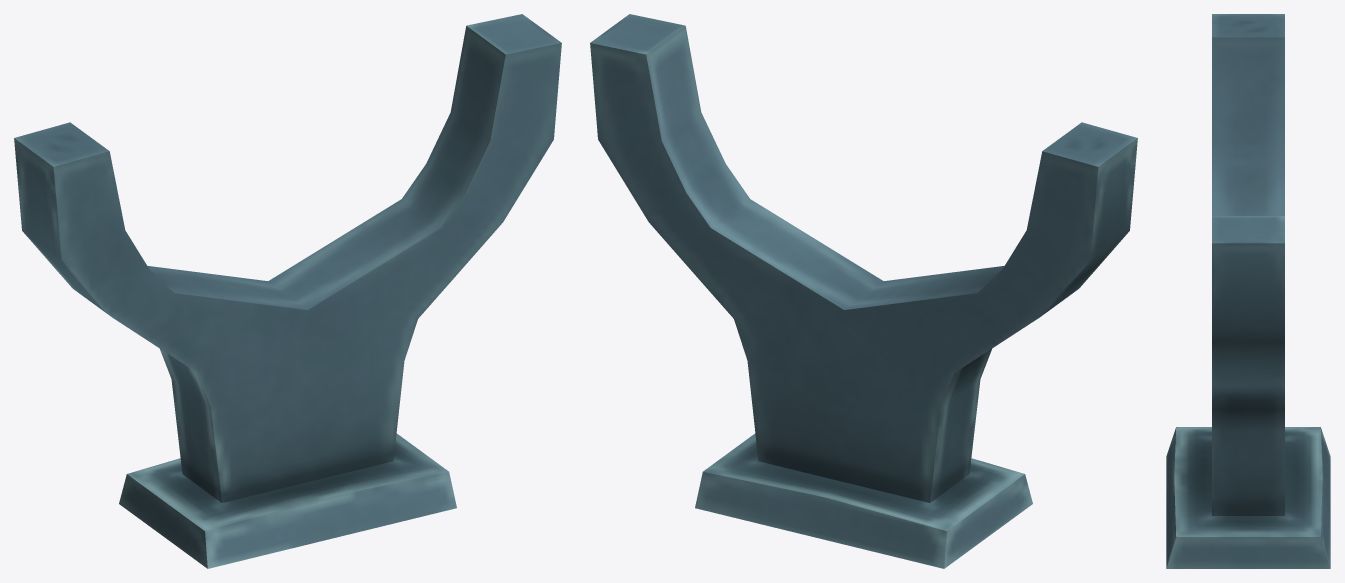
Rendered from Pipe_holder.fbx.
The picture shows the model from 3 angles, left to right: view 1: azimuth 30°, elevation 25°; view 2: azimuth 150°, elevation 25°; view 3: azimuth 270°, elevation 25°; orthographic projection. The views are drawn at different scales.
Parts seen in each view (by area): view 1: Pipe_holder; view 2: Pipe_holder; view 3: Pipe_holder.
Boxes of the visible parts, <box> form: Pipe_holder: <box>14,14,561,568</box>; Pipe_holder: <box>590,14,1137,568</box>; Pipe_holder: <box>1166,14,1330,568</box>.
Bounding box in the file's own units: 128 × 101 × 38.86.
